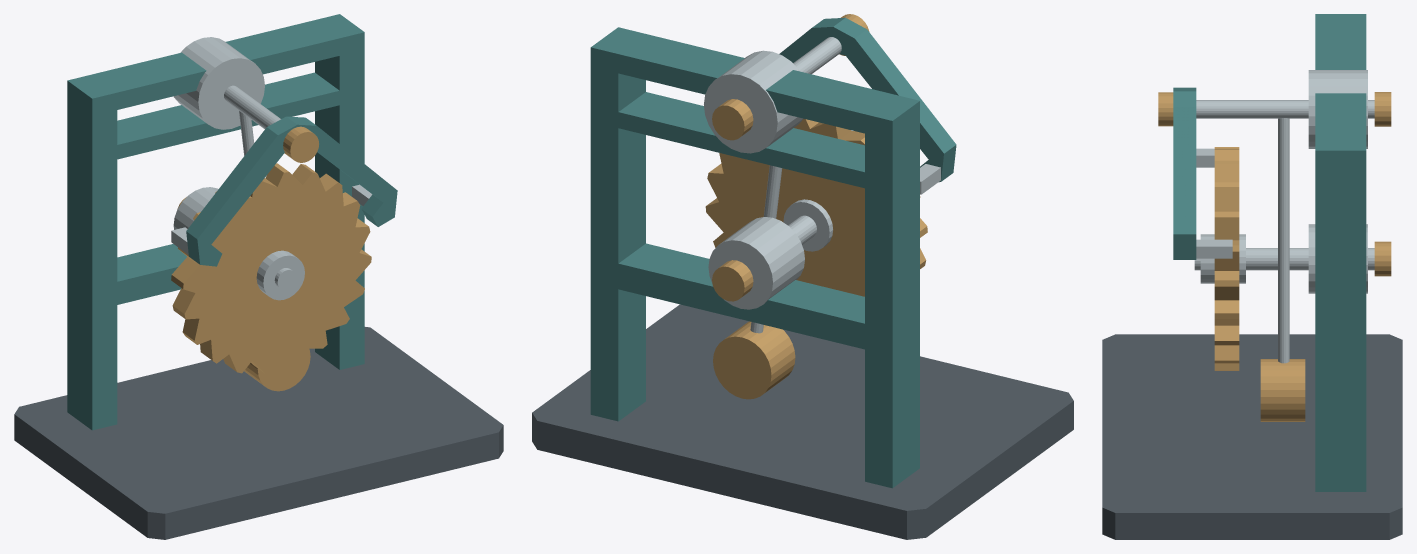
3 renders of one model, left to right at view 1: azimuth 30°, elevation 25°; view 2: azimuth 150°, elevation 25°; view 3: azimuth 270°, elevation 25°, orthographic. The views are drawn at different scales.
Visible parts, largest first — view 1: WholeGroundedDisplayPlinth, WholeTwinWindowRearStandard, WholeBluntRadialToothWheel, WholeForkedAnchorWithOpposedEnds, AnchorWholeBoredBearing, WholeProudWheelHub, WholeLowPendulumBob, AnchorWholeTransverseShaft, WholeProudAnchorPivotCap, WheelWholeBoredBearing; view 2: WholeTwinWindowRearStandard, WholeGroundedDisplayPlinth, WholeBluntRadialToothWheel, WholeForkedAnchorWithOpposedEnds, AnchorWholeBoredBearing, WheelWholeBoredBearing, WholeLowPendulumBob, WholeProudWheelHub, WheelWholeRearRetainer, AnchorWholeRearRetainer, AnchorWholeTransverseShaft, WholeRearInclinedPendulumRod; view 3: WholeGroundedDisplayPlinth, WholeTwinWindowRearStandard, WholeBluntRadialToothWheel, WholeForkedAnchorWithOpposedEnds, WholeRearInclinedPendulumRod, WholeLowPendulumBob, AnchorWholeTransverseShaft, AnchorWholeBoredBearing, WheelWholeTransverseShaft, WholeProudWheelHub, RightWholePalletHeel, WheelWholeBoredBearing (+4 smaller).
Boxes of the visible parts, x1,y1,x2,y2 form: WholeGroundedDisplayPlinth: [14, 327, 503, 539]; WholeTwinWindowRearStandard: [67, 14, 364, 430]; WholeBluntRadialToothWheel: [171, 163, 371, 373]; WholeForkedAnchorWithOpposedEnds: [186, 116, 397, 266]; AnchorWholeBoredBearing: [173, 37, 264, 129]; WholeProudWheelHub: [256, 250, 304, 300]; WholeLowPendulumBob: [244, 348, 310, 391]; AnchorWholeTransverseShaft: [224, 85, 280, 128]; WholeProudAnchorPivotCap: [283, 126, 318, 162]; WheelWholeBoredBearing: [173, 187, 218, 229]; WholeTwinWindowRearStandard: [590, 27, 919, 488]; WholeGroundedDisplayPlinth: [532, 304, 1073, 539]; WholeBluntRadialToothWheel: [705, 119, 927, 296]; WholeForkedAnchorWithOpposedEnds: [779, 17, 956, 182]; AnchorWholeBoredBearing: [704, 50, 803, 153]; WheelWholeBoredBearing: [708, 217, 804, 309]; WholeLowPendulumBob: [713, 321, 795, 399]; WholeProudWheelHub: [783, 199, 832, 251]; WheelWholeRearRetainer: [712, 260, 753, 301]; AnchorWholeRearRetainer: [712, 99, 753, 140]; AnchorWholeTransverseShaft: [793, 37, 841, 74]; WholeRearInclinedPendulumRod: [750, 165, 782, 333]; WholeGroundedDisplayPlinth: [1102, 334, 1402, 539]; WholeTwinWindowRearStandard: [1315, 14, 1366, 491]; WholeBluntRadialToothWheel: [1214, 147, 1239, 370]; WholeForkedAnchorWithOpposedEnds: [1173, 87, 1196, 259]; WholeRearInclinedPendulumRod: [1278, 118, 1289, 363]; WholeLowPendulumBob: [1260, 359, 1305, 421]; AnchorWholeTransverseShaft: [1196, 100, 1374, 118]; AnchorWholeBoredBearing: [1308, 70, 1367, 148]; WheelWholeTransverseShaft: [1194, 248, 1374, 270]; WholeProudWheelHub: [1200, 234, 1245, 283]; RightWholePalletHeel: [1196, 239, 1232, 258]; WheelWholeBoredBearing: [1308, 224, 1367, 293].
Size of the model in its own units: 1.28 by 1.26 by 0.91.
